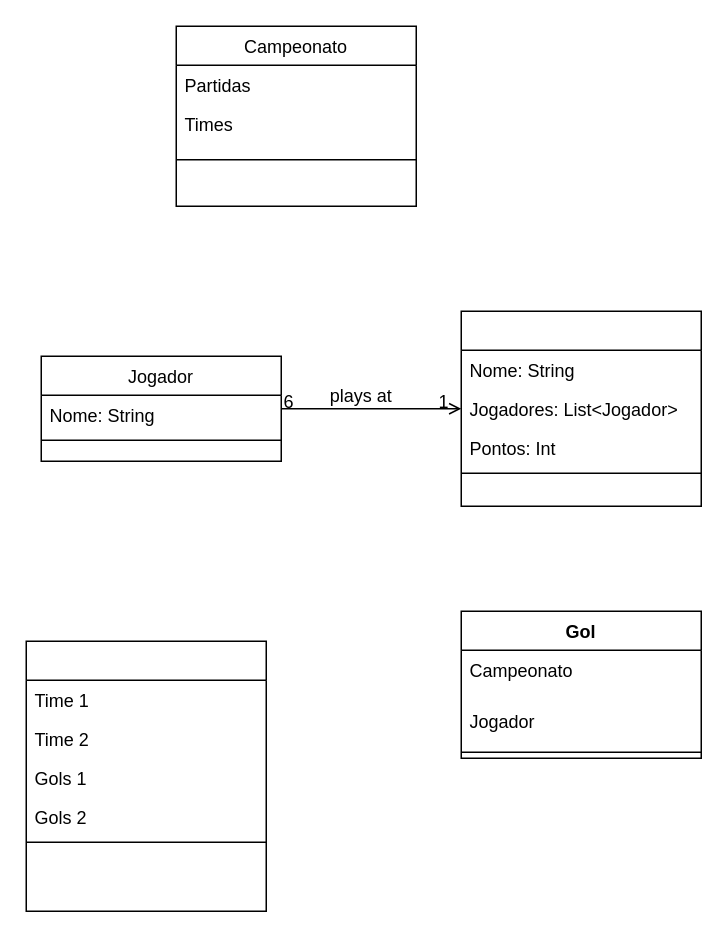
Image size: 728x938. Some labels were removed from this diagram. Each missing label, with the box of its shape:
Partida: (25, 640, 266, 911)
Time: (460, 310, 701, 506)
